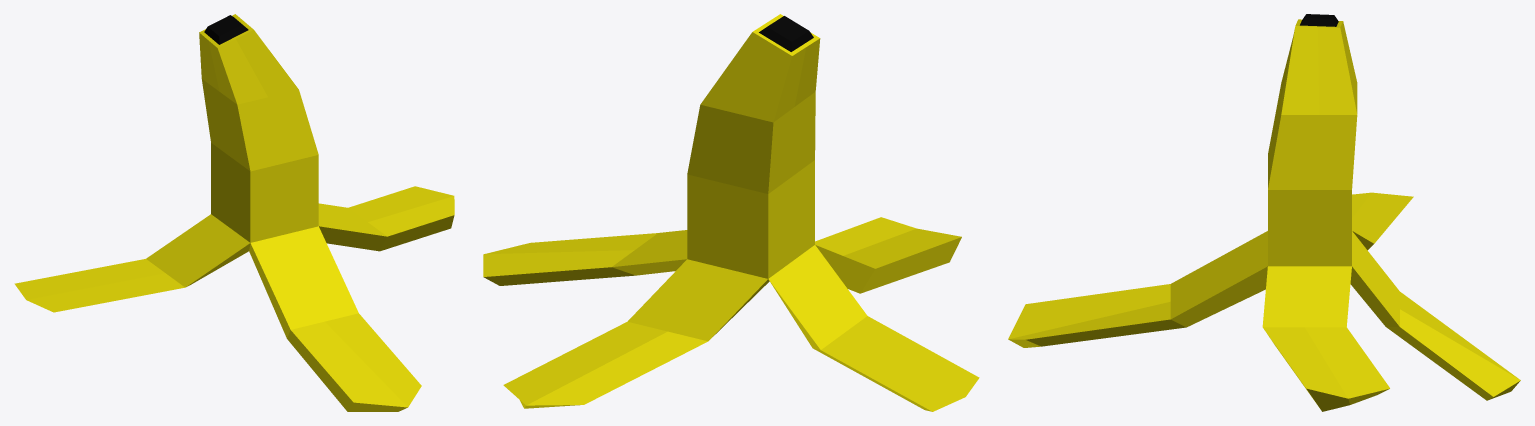
Rendered from banana_skin.fbx.
3 views of the same model, side by side, from view 1: azimuth 30°, elevation 25°; view 2: azimuth 150°, elevation 25°; view 3: azimuth 270°, elevation 25° (orthographic). The views are drawn at different scales.
Visible parts, largest first — view 1: Cube; view 2: Cube; view 3: Cube.
Part boxes in pixels (box(x1,y1,x2,y2)): Cube: box(14, 14, 454, 411); Cube: box(483, 14, 979, 411); Cube: box(1008, 14, 1520, 411).
Bounding box in the file's own units: 1002 × 682 × 999.
